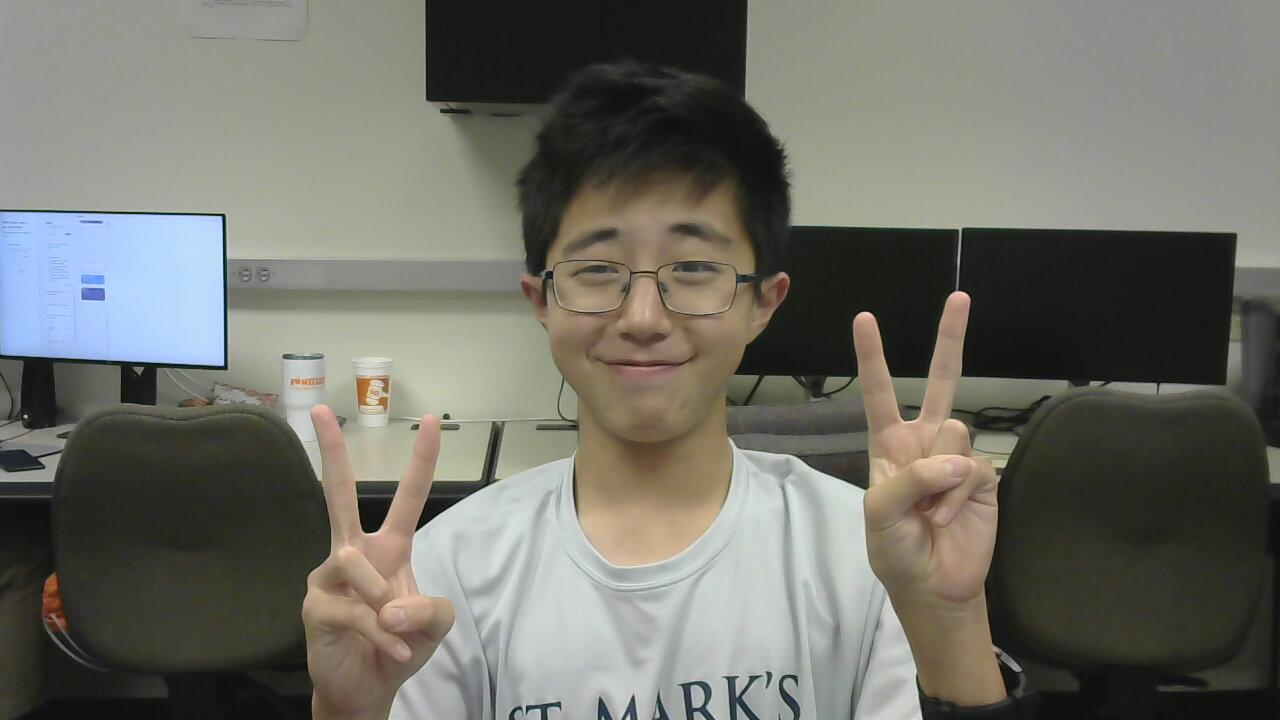peace: (838, 287, 1027, 599), (278, 387, 466, 694)
